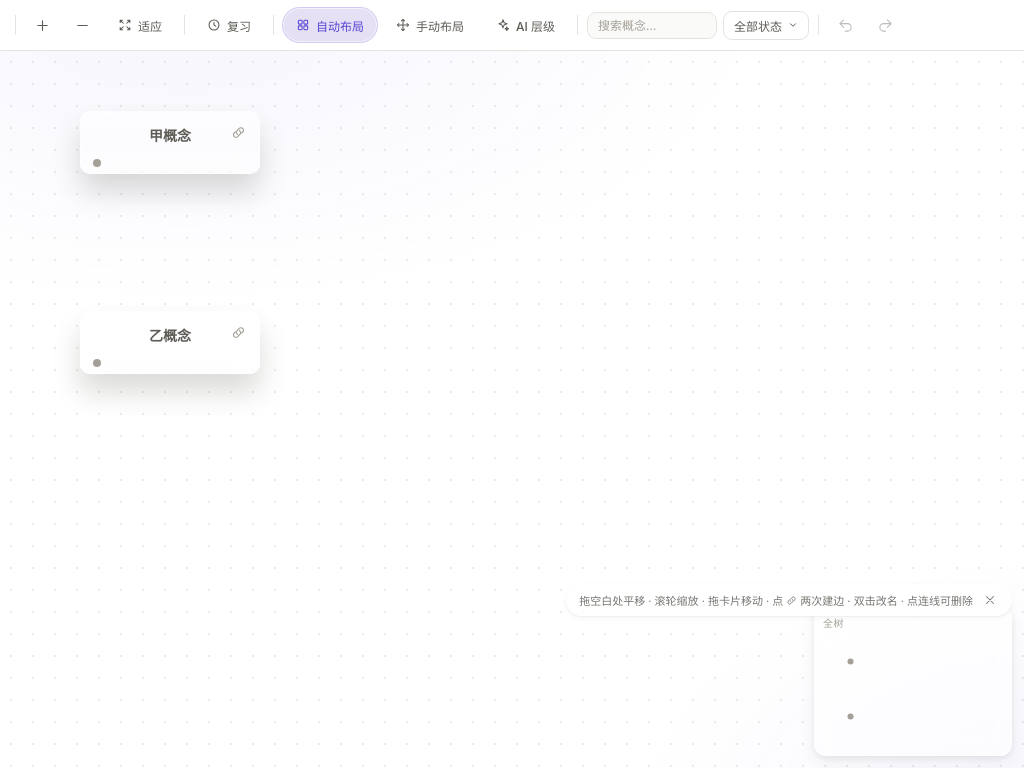
Test: 添加子概念应用内弹框（第五轮 D） › 右键菜单 → 添加子概念 → 弹框输入回车 → 建概念
The image size is (1024, 768).
第八轮：卡内翻起面板会复制名字，取第一个匹配（卡片标题）
Right-click the text "甲概念" at {"x": 170, "y": 135}, box [149,125,191,145]
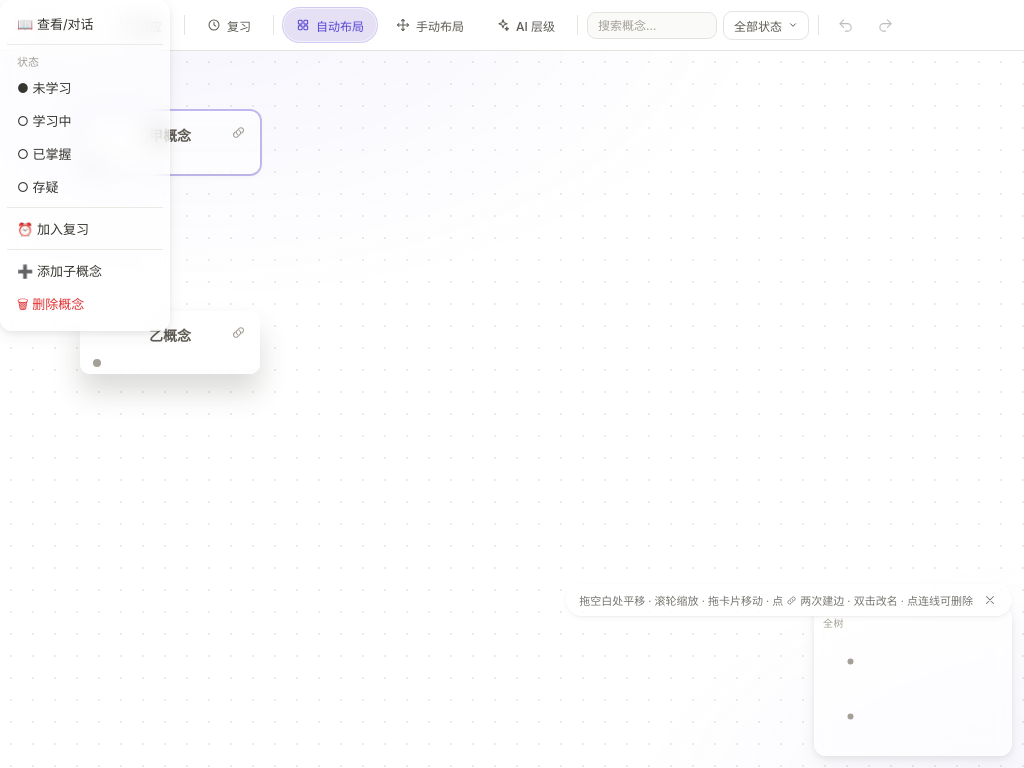
Click the button "➕ 添加子概念" at {"x": 85, "y": 270}, box [7,254,163,287]
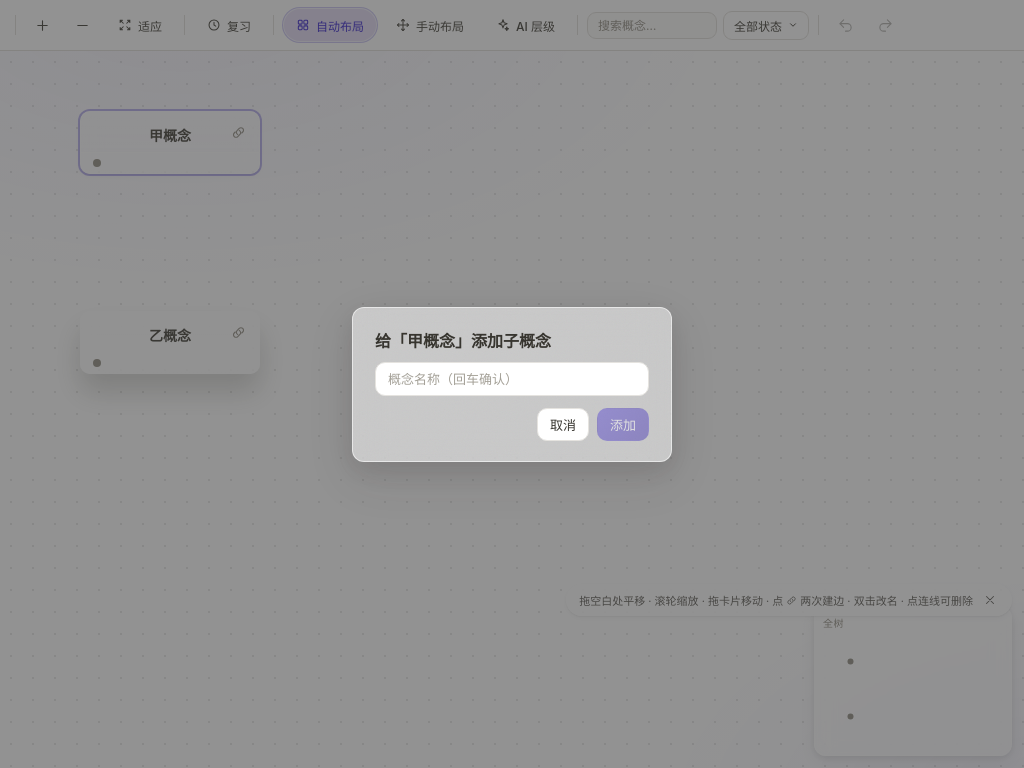
Type "新子概念" into the field named "子概念名称" at {"x": 512, "y": 378}, box [375,362,649,396]
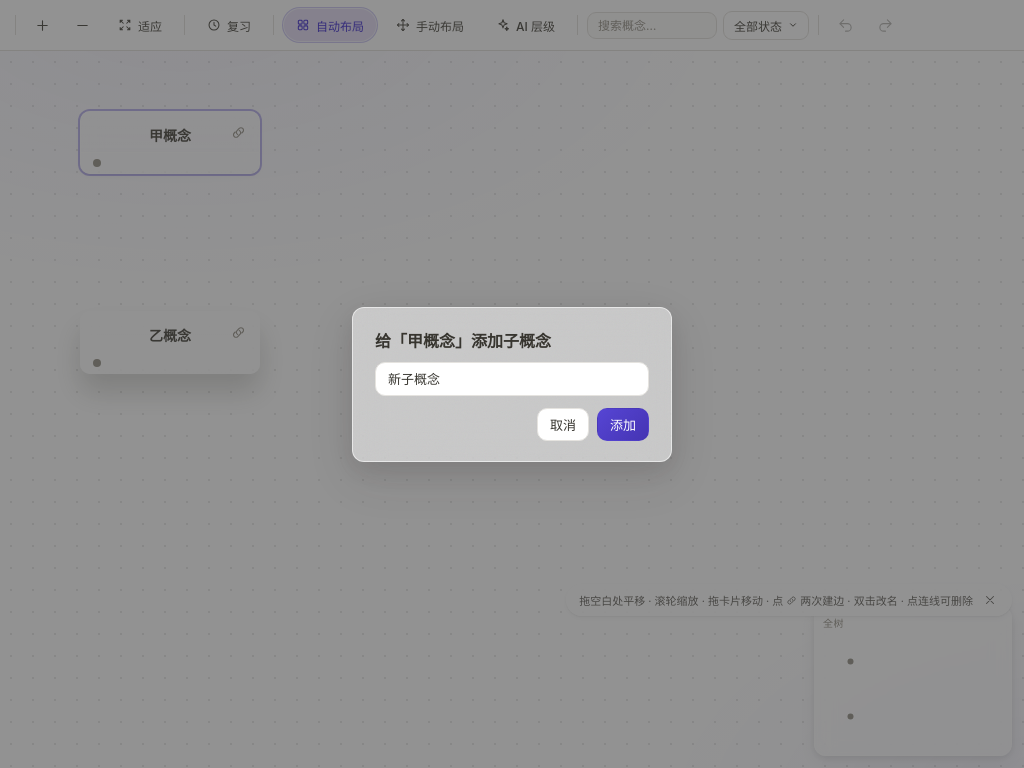
Press Enter in the field named "子概念名称", box [375,362,649,396]
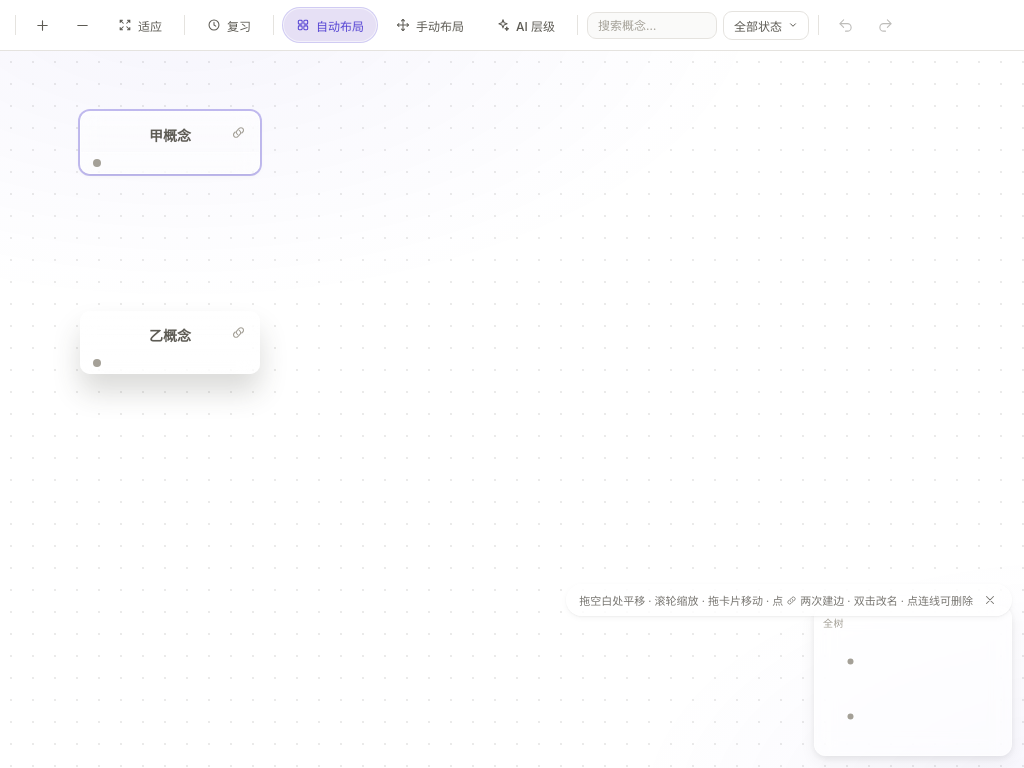
expect the field labelled "子概念名称" is gone: met
